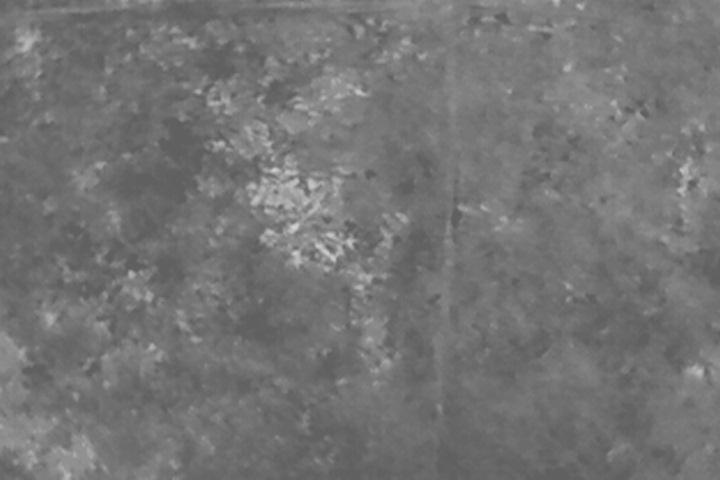landmine: (249, 167, 308, 218)
